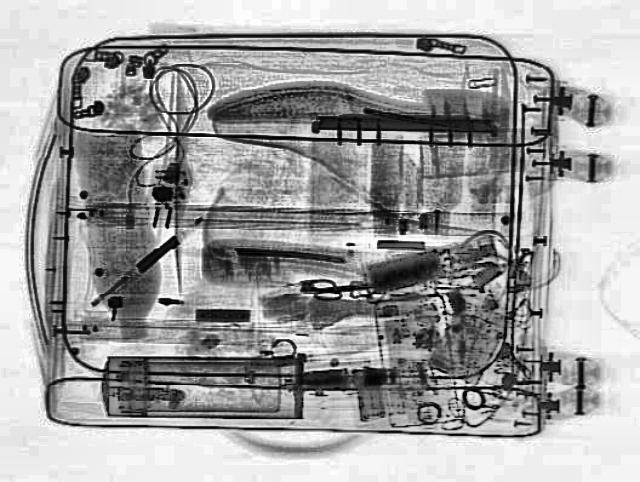Scissors: (304, 273, 381, 301)
